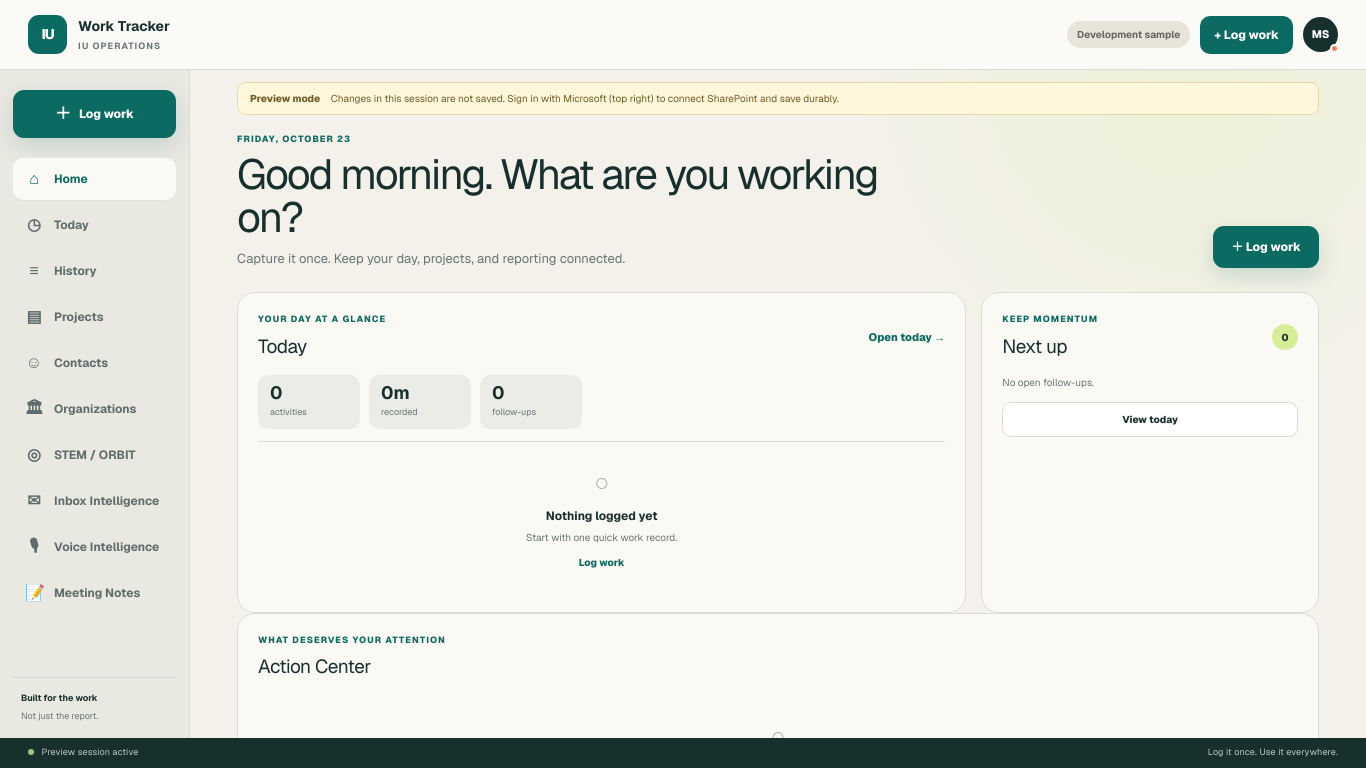
Scenario: Seeded IU29 directory (Patch 9B) › shows the twelve real IU29 districts, Schuylkill Intermediate Unit 29, and PAIMS — fourteen seeded Organizations
Click the button "🏛 Organizations" at point(94, 409), box x1=13 y1=388 x2=176 y2=430
(page scrolled)
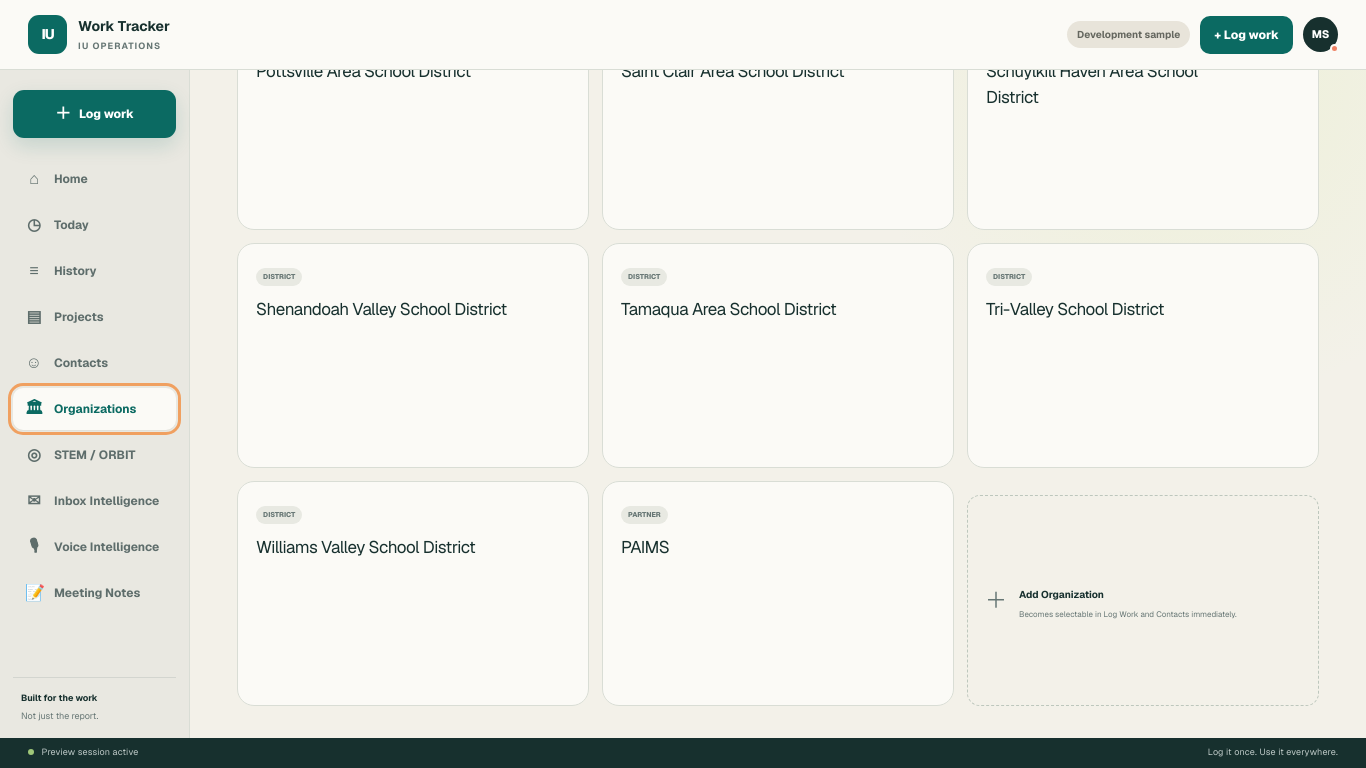
Expected: the heading "Schuylkill Haven Area School District" is shown, x1=986 y1=70 x2=1197 y2=108
Expected: the heading "Shenandoah Valley School District" is shown, x1=256 y1=297 x2=523 y2=323
Expected: the heading "Tamaqua Area School District" is shown, x1=621 y1=298 x2=836 y2=320
